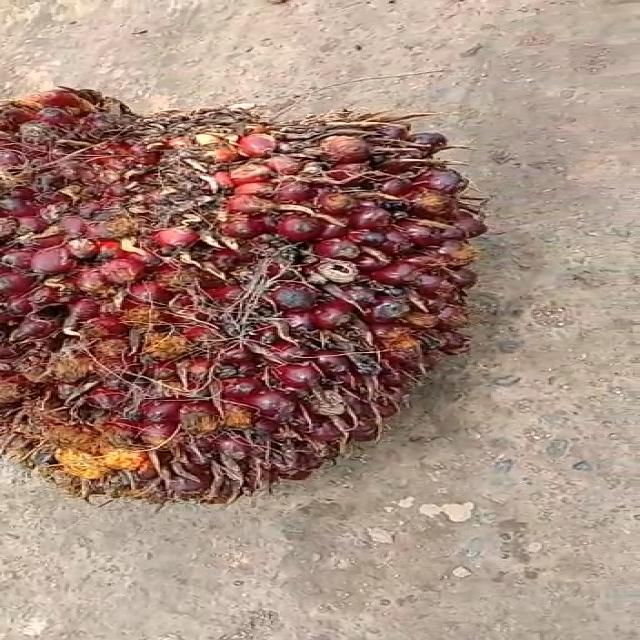palm oil: (0, 90, 491, 511)
